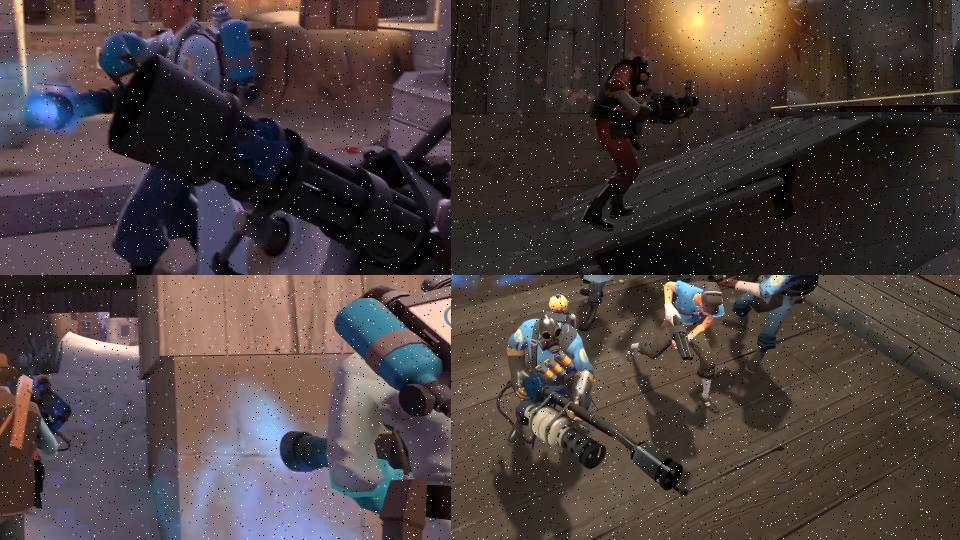Enemy: (44, 0, 261, 275), (277, 275, 451, 540), (495, 289, 693, 500), (581, 53, 699, 235), (625, 279, 728, 416), (707, 275, 822, 376), (0, 353, 58, 540), (524, 275, 624, 332), (787, 5, 816, 63)
